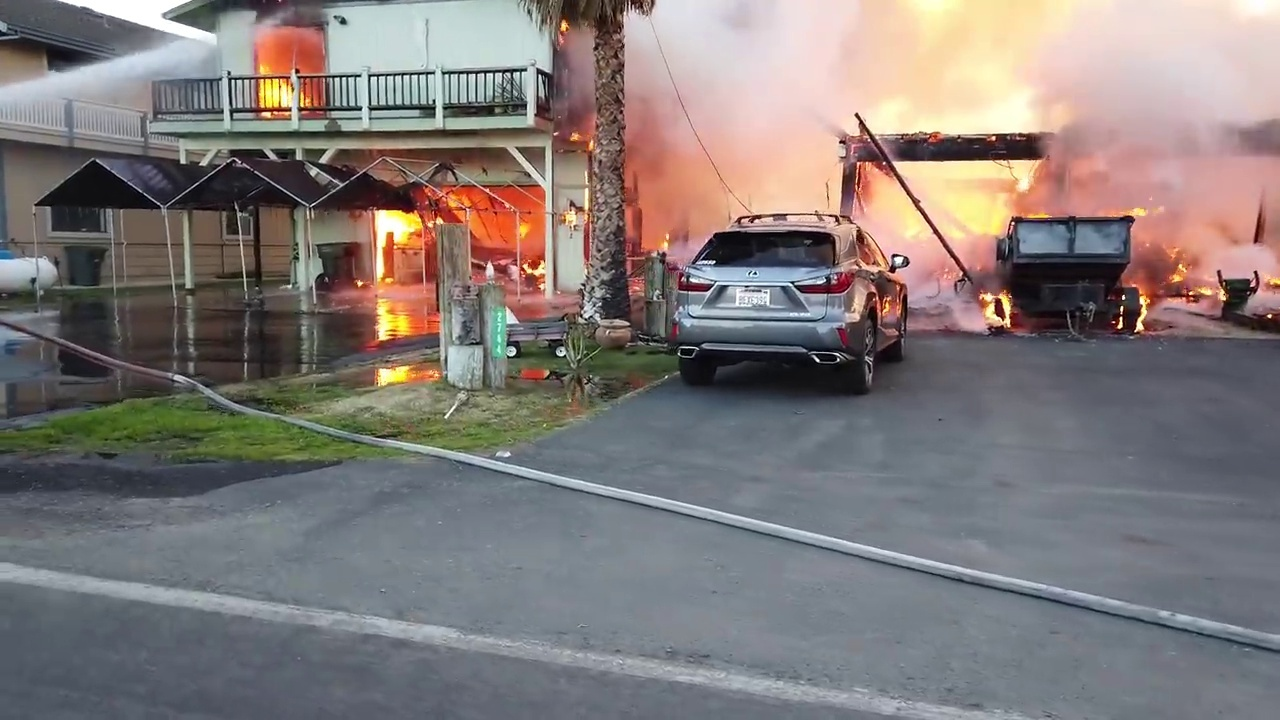fire: (852, 147, 1030, 308), (257, 21, 328, 108), (360, 207, 429, 283), (978, 287, 1018, 327), (1115, 284, 1150, 328), (566, 116, 602, 153), (519, 256, 545, 289), (560, 205, 577, 230), (1169, 255, 1187, 277), (1264, 274, 1280, 296), (511, 221, 533, 236), (557, 18, 570, 42)
smoke: (1041, 1, 1279, 265), (636, 5, 850, 206), (864, 10, 1029, 130)
